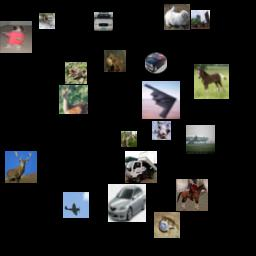airplane: (142, 81, 180, 119), (186, 125, 215, 154), (63, 192, 89, 218)
automobile: (108, 184, 146, 222), (145, 52, 167, 74), (94, 12, 113, 31)
cat: (152, 121, 171, 140), (39, 13, 55, 29)
deer: (5, 151, 37, 183), (59, 85, 88, 114)
dog: (0, 21, 32, 53), (164, 4, 190, 30)
frog: (154, 212, 180, 238), (104, 50, 126, 72), (65, 62, 87, 84), (121, 131, 137, 147)
truck: (125, 151, 157, 183), (191, 10, 210, 29)
